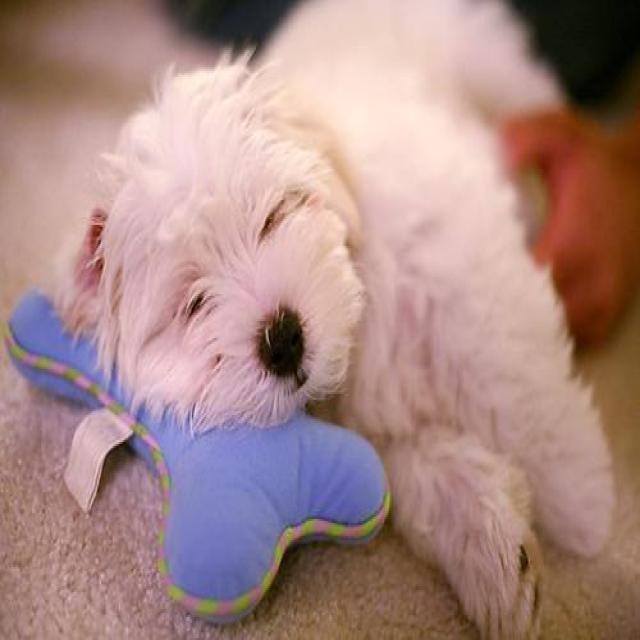relax: (85, 52, 384, 445)
